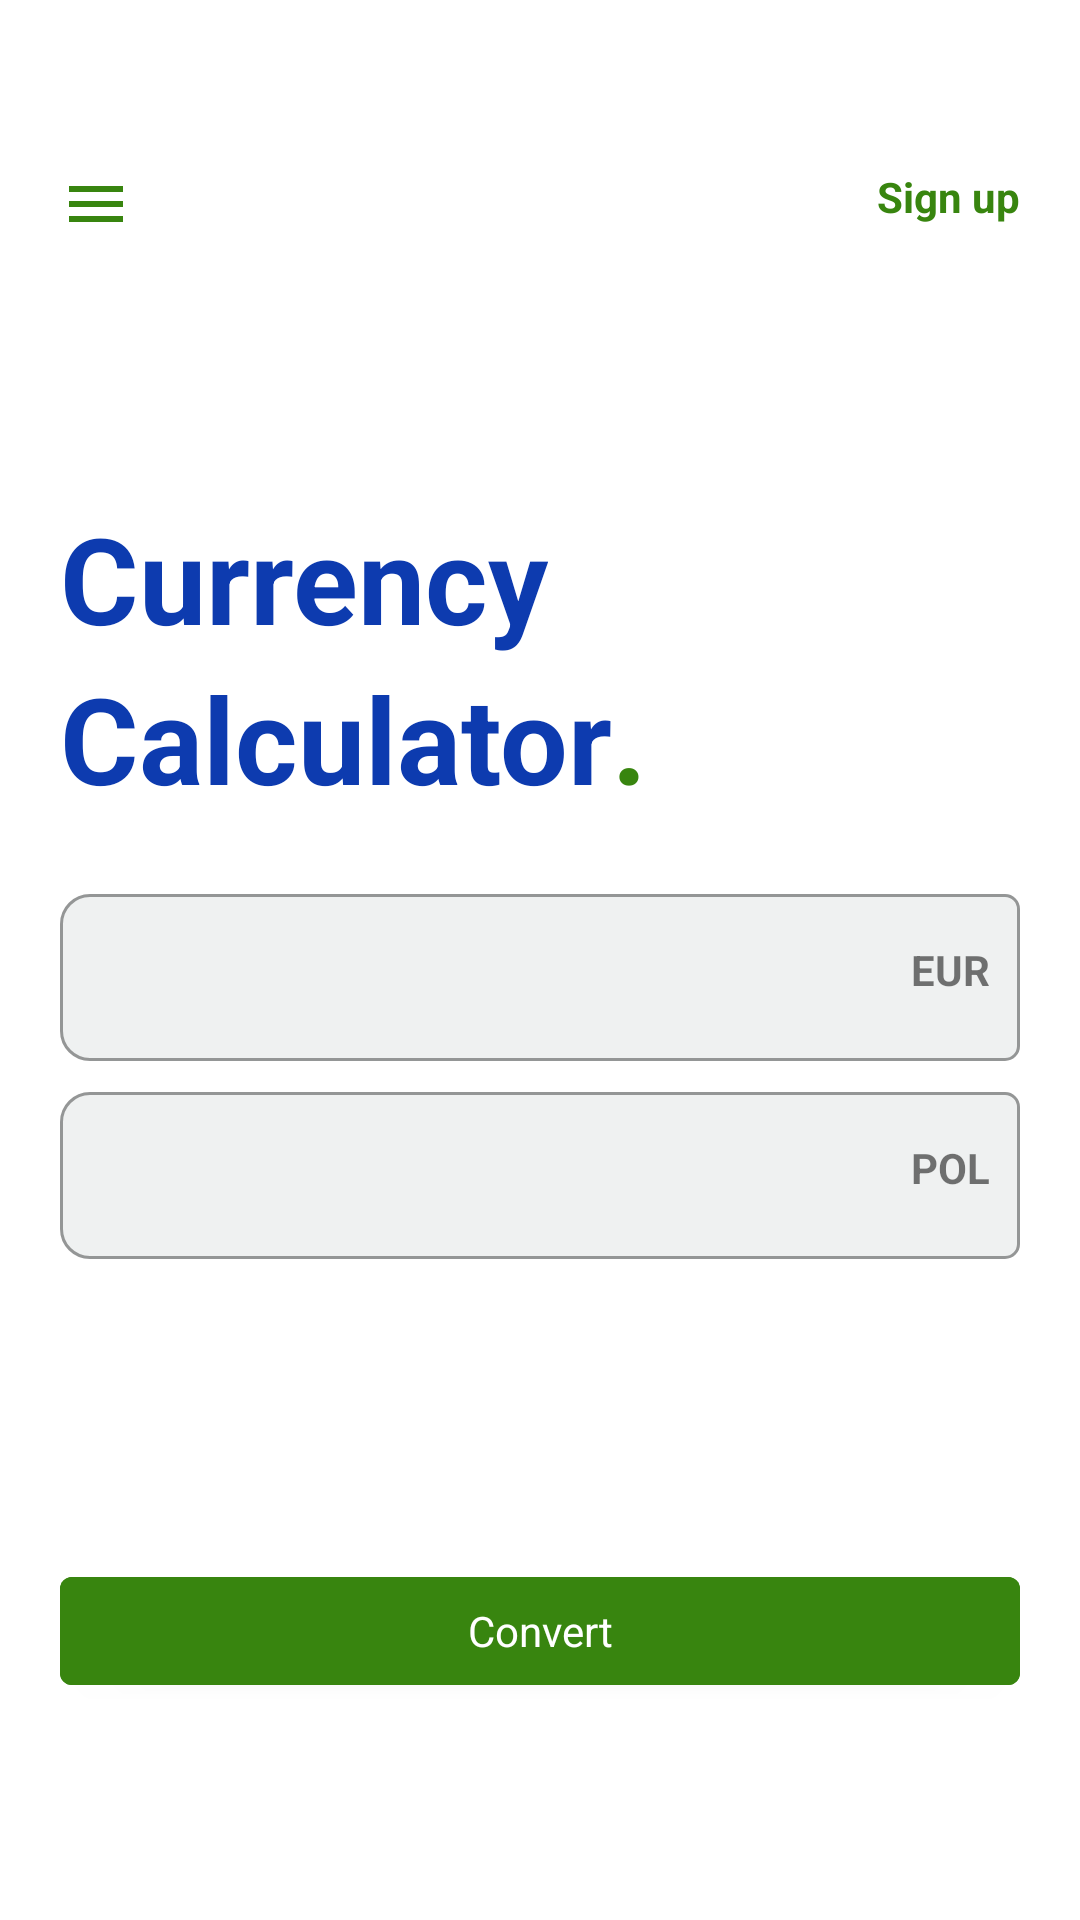

Icons on this 1080px×1920px Android screen, each with the point to tap as (x=x, y=y):
menu: (x=96, y=204)
